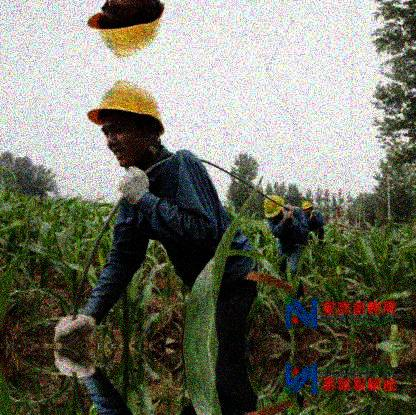helmet: (88, 79, 163, 168), (85, 1, 163, 57), (262, 195, 286, 222), (303, 201, 312, 214)
